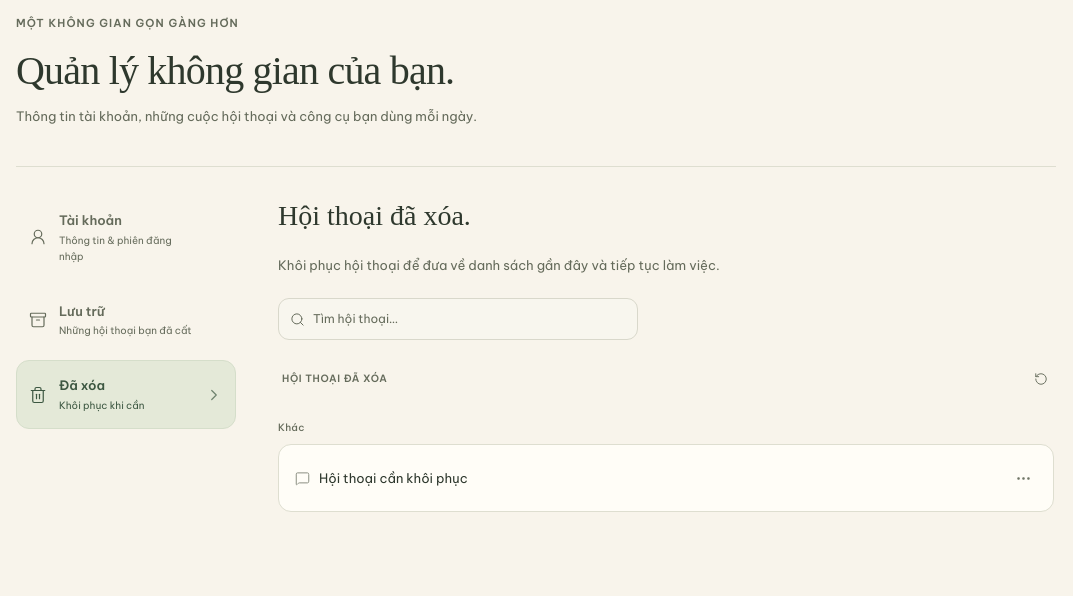
it: account settings › loads the URL section and restores deleted conversations only after API success
Check: the button "Hội thoại cần khôi phục" is disabled, box [285,451,1003,505]
Click the button named "Tùy chọn: Hội thoại cần khôi phục": (1023, 478) [1003,456,1043,500]
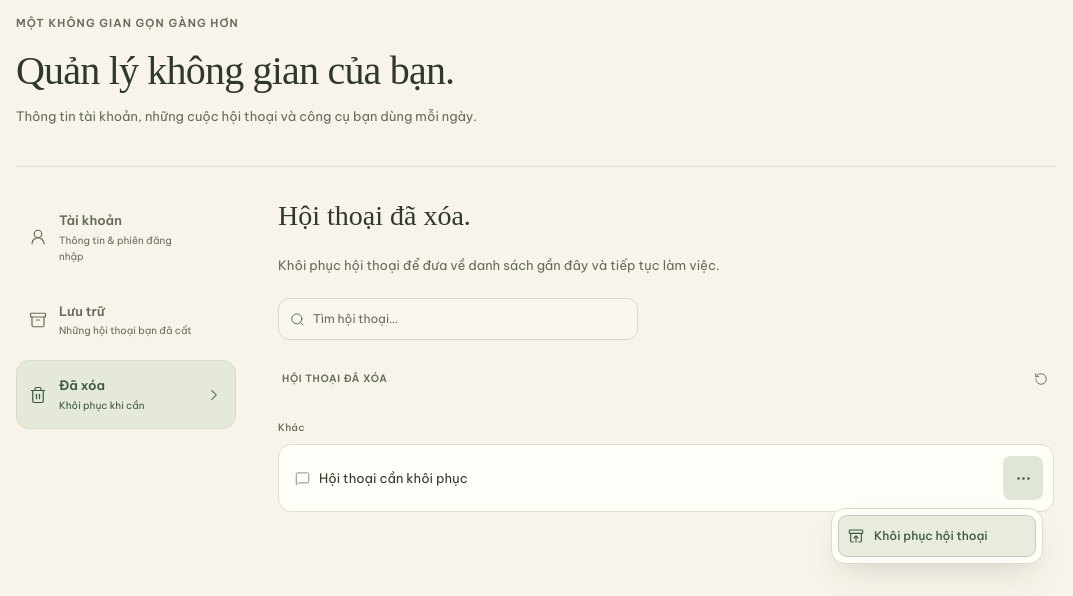
Click the button "Khôi phục hội thoại": (937, 536) [838,515,1036,557]
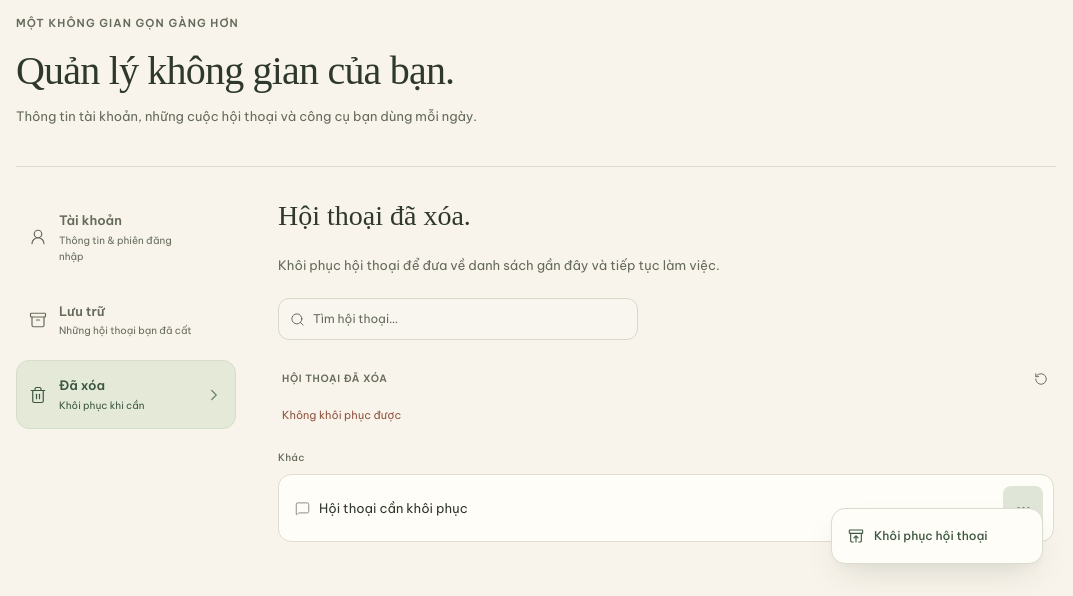
Check: the button "Hội thoại cần khôi phục" is shown, box [285,481,1003,535]
Check: the text "Không khôi phục được" is shown, box [282,408,401,422]
Click the button "Khôi phục hội thoại": (937, 536) [838,515,1036,557]
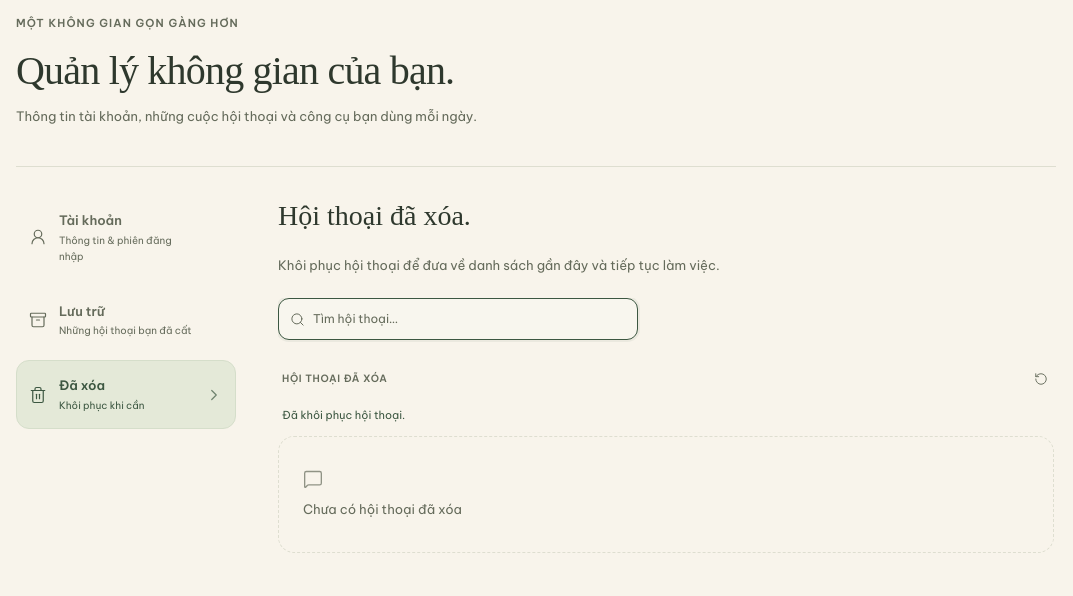
Check: the text "Chưa có hội thoại đã xóa" is shown, box [278,436,1054,553]
